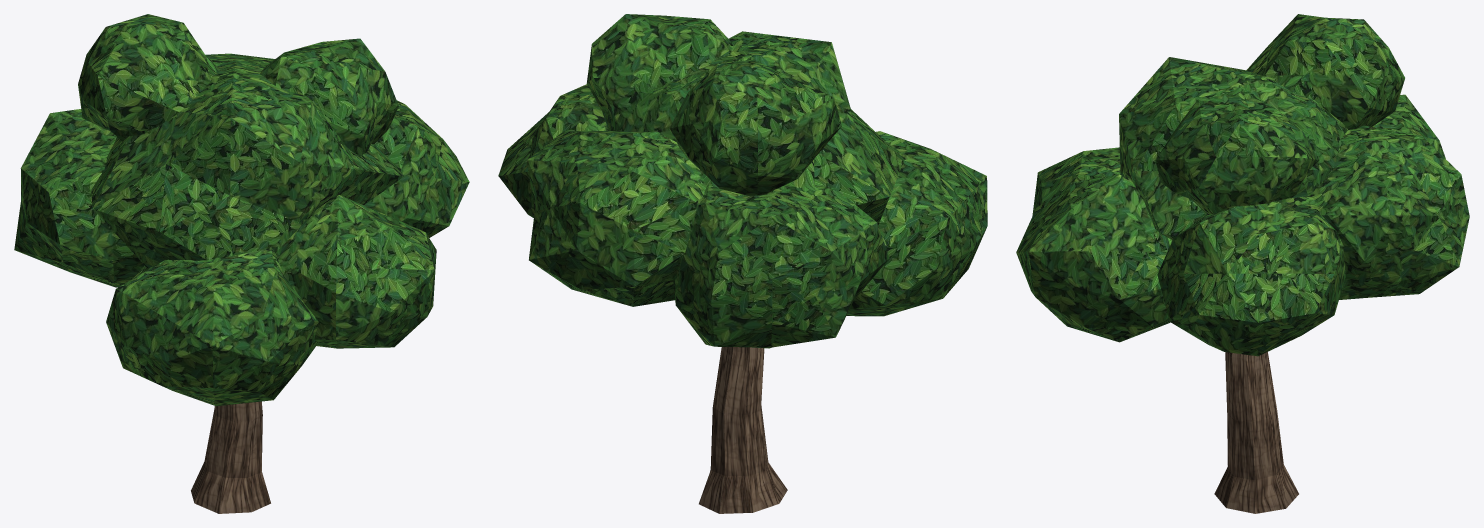
The model's file is oak.glb.
The picture shows the model from 3 angles, left to right: view 1: azimuth 30°, elevation 25°; view 2: azimuth 150°, elevation 25°; view 3: azimuth 270°, elevation 25°; orthographic projection. The views are drawn at different scales.
Parts seen in each view (by area): view 1: Oak; view 2: Oak; view 3: Oak.
Boxes of the visible parts, x1,y1,x2,y2 form: Oak: [14, 14, 469, 513]; Oak: [498, 14, 987, 513]; Oak: [1016, 14, 1469, 513].
Bounding box in the file's own units: 6.18 × 6.94 × 6.28.
Materials: 2 (2 with a texture image).
